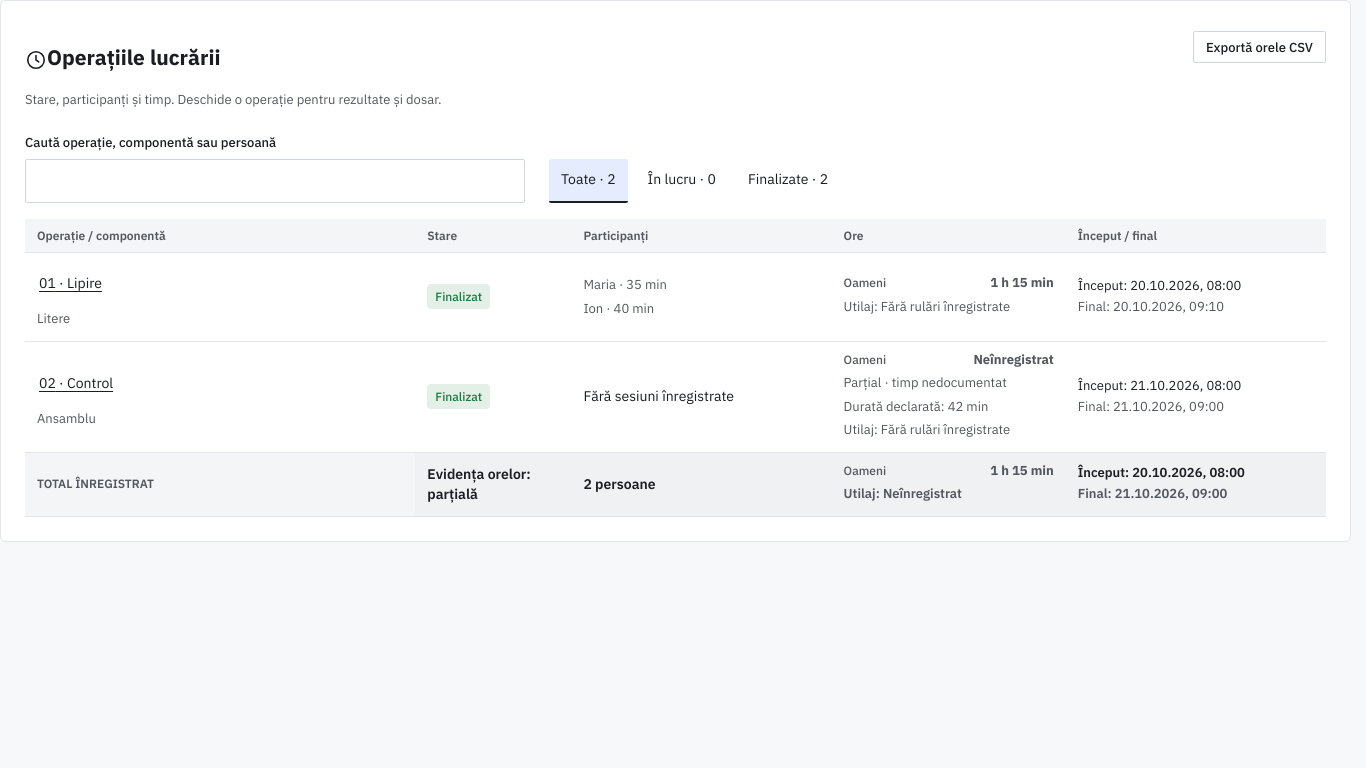
Test: file-first job record › keeps one operations register and opens an operation in the bench with the compact switcher
The width and height of the screenshot is (1366, 768).
Expected: the text "Durată declarată: 42 min" is shown, [844, 398, 988, 414]
Expected: the text "Utilaj: Fără rulări înregistrate" in the row of "Litere" is shown, [844, 298, 1010, 315]
What coordinates should you click on to do the following:
click the button "01 · Lipire"
I would click on:
 (70, 283)
Its box is [37, 261, 104, 305].
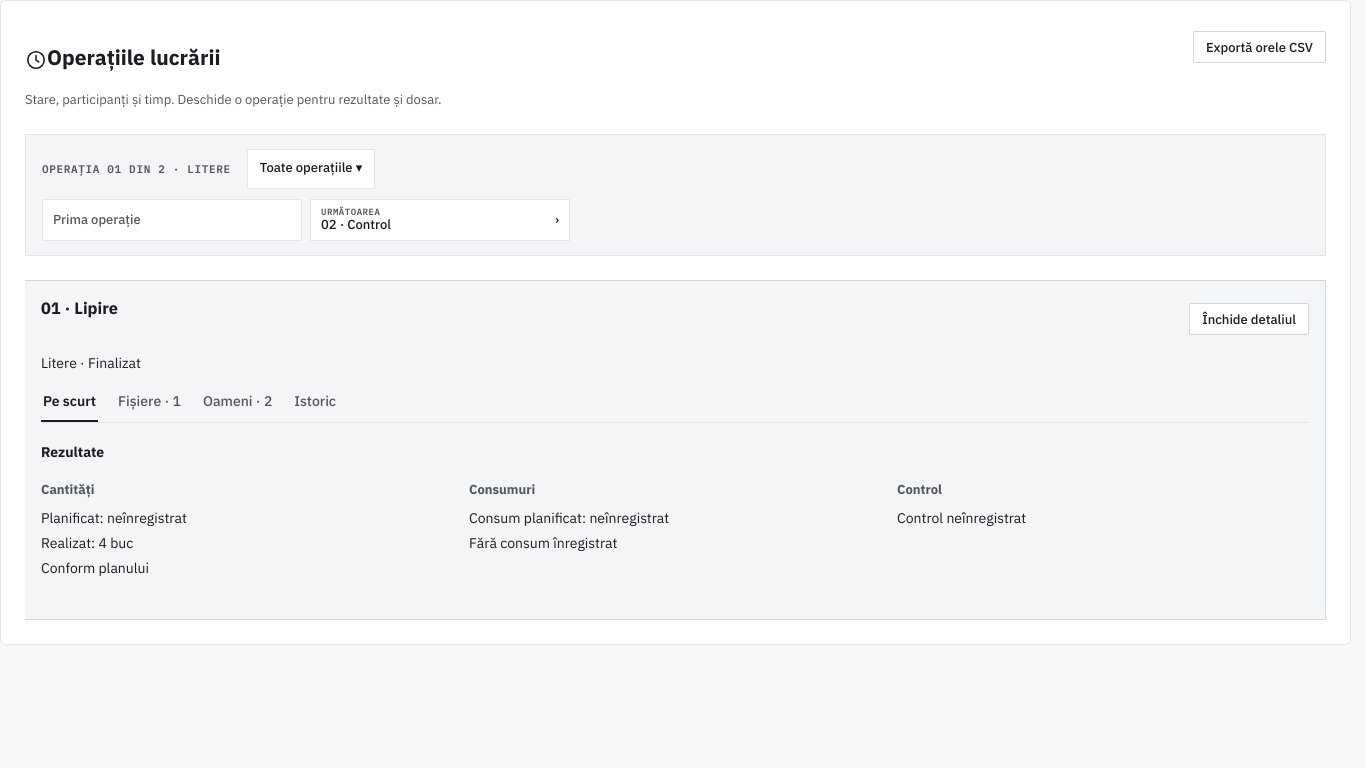
Result: the text "Operația 01 din 2 · Litere" is shown at [42, 160, 231, 177]
Result: the text "Prima operație" is shown at [42, 199, 302, 241]
Result: the text "Realizat: 4 buc" is shown at [41, 534, 133, 552]
What coordinates should you click on to do the following:
click the button "Următoarea 02 · Control ›"
I would click on:
 (351, 211)
Its box is [310, 199, 570, 241].
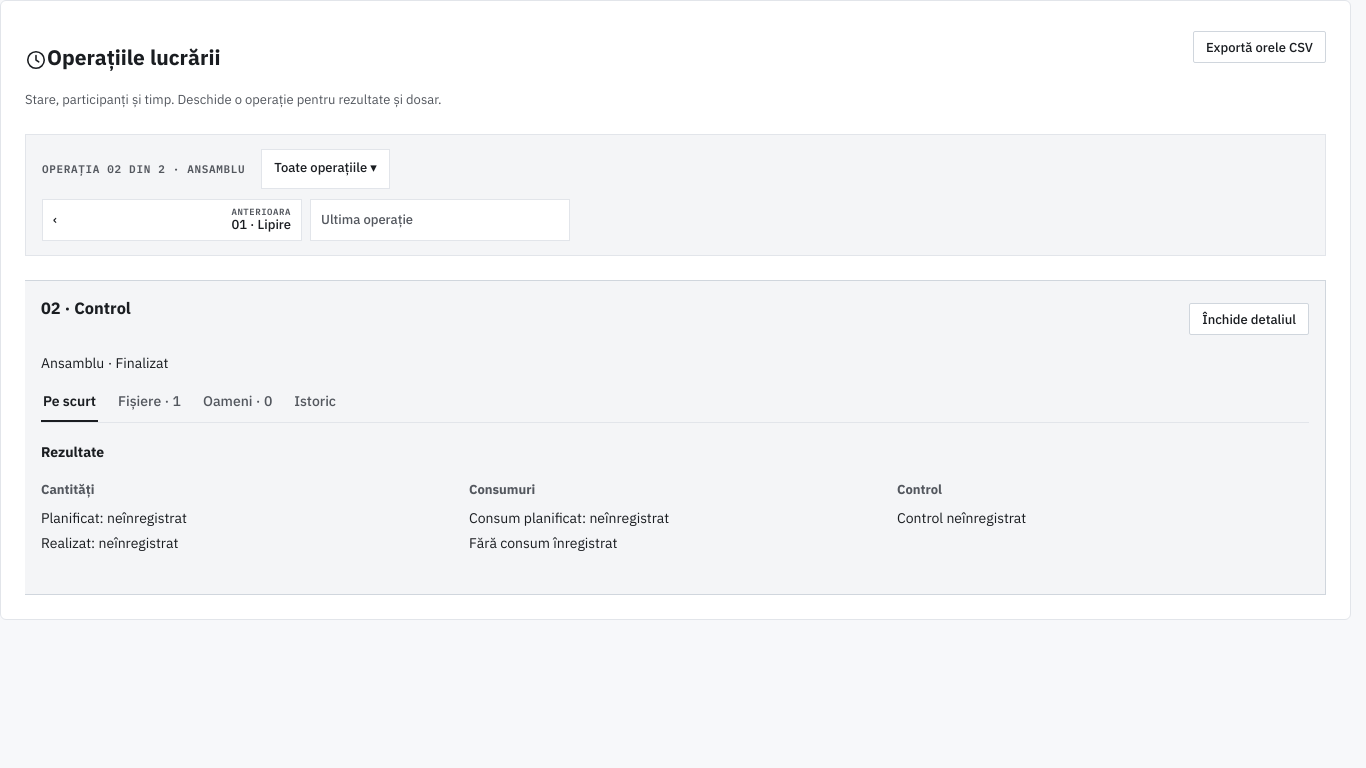
Result: the number of elements named "Dosarul operației selectate" is 1 at [25, 280, 1326, 595]
Result: the text "Operația 02 din 2 · Ansamblu" is shown at [42, 160, 245, 177]
Result: the text "Realizat: 4 buc" is gone
What coordinates should you click on to do the following:
click the button "Toate operațiile ▾"
I would click on:
 (326, 169)
Its box is [261, 149, 390, 189].
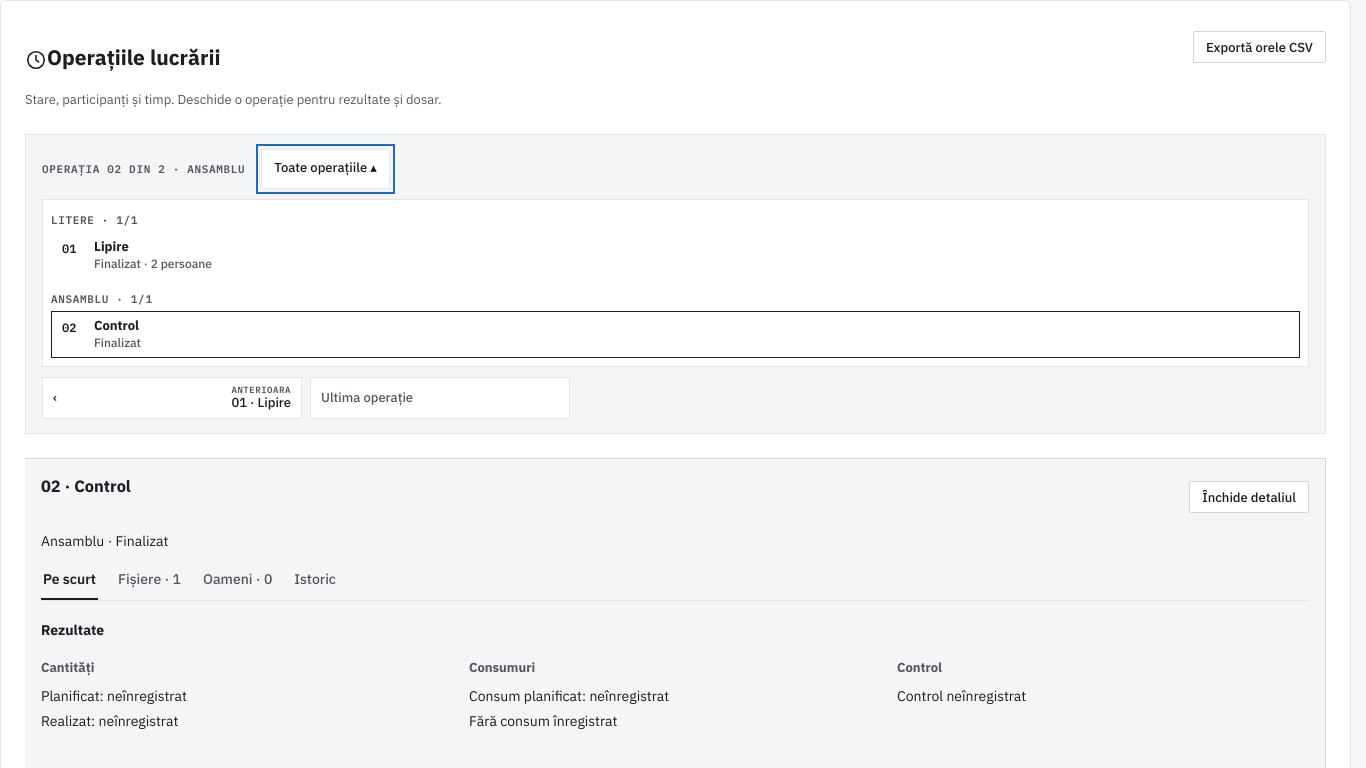
Result: the button "Toate operațiile ▴" is expanded at [261, 149, 390, 189]
Result: the button "02 Control Finalizat" is shown at [51, 311, 1300, 358]
What coordinates should you click on to do the following:
click the button "01 Lipire Finalizat · 2 persoane"
I would click on:
 (111, 247)
Its box is [51, 232, 1300, 279].
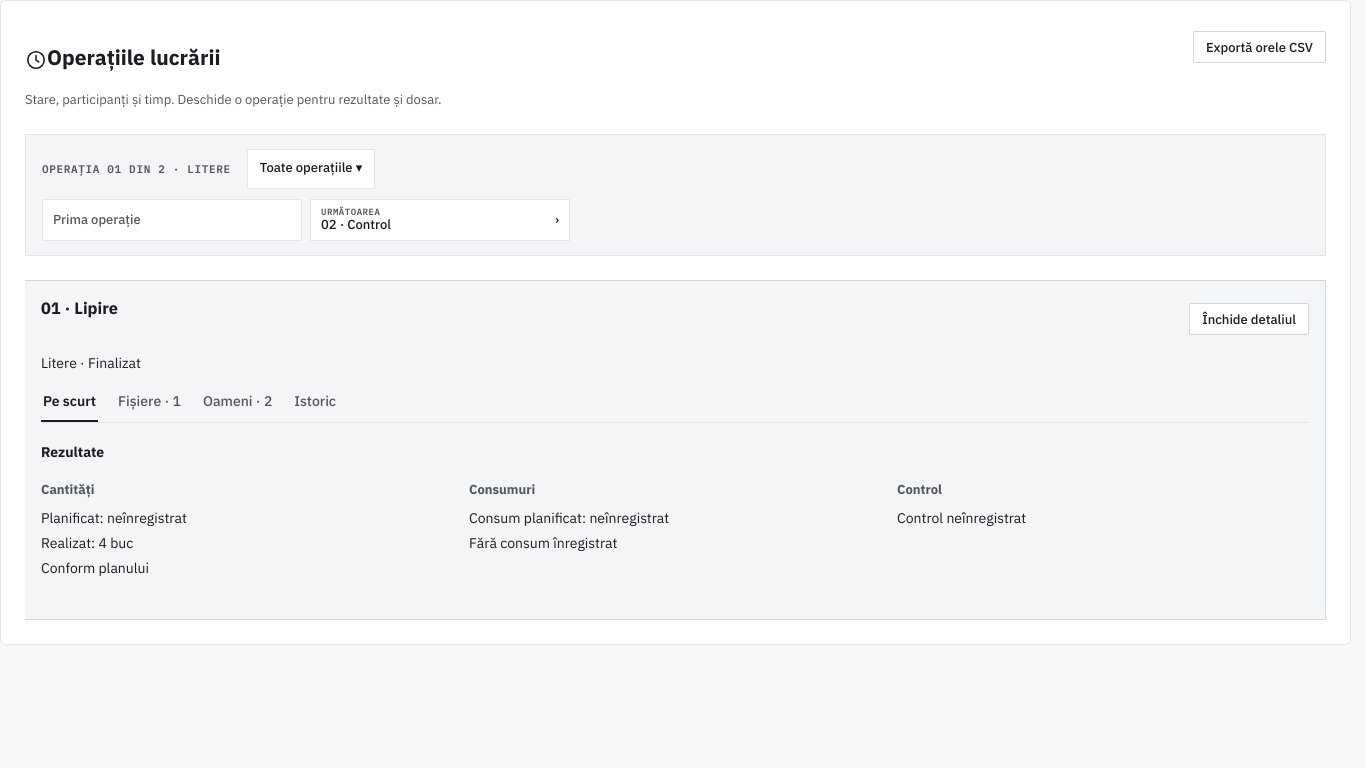
Result: the text "Operația 01 din 2 · Litere" is shown at [42, 160, 231, 177]
